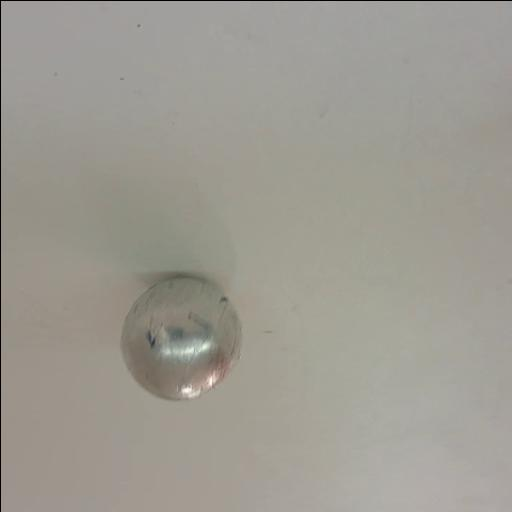alive: (120, 275, 242, 401)
